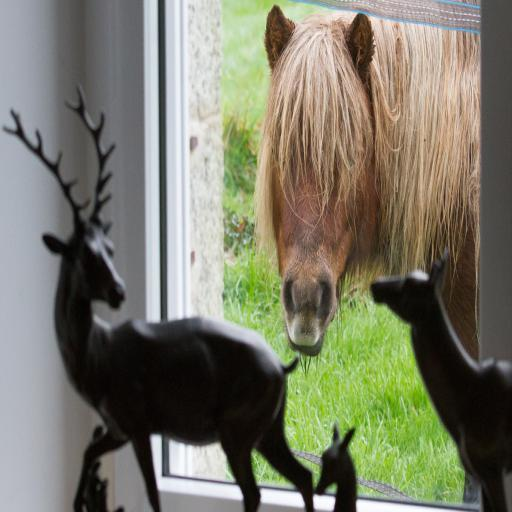Horse: (248, 0, 476, 503)
